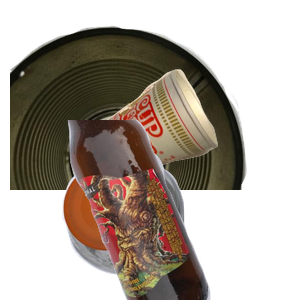glass: (65, 120, 300, 300)
metal: (10, 23, 250, 203)
plastic: (60, 152, 237, 300)
trash: (95, 67, 300, 238)
